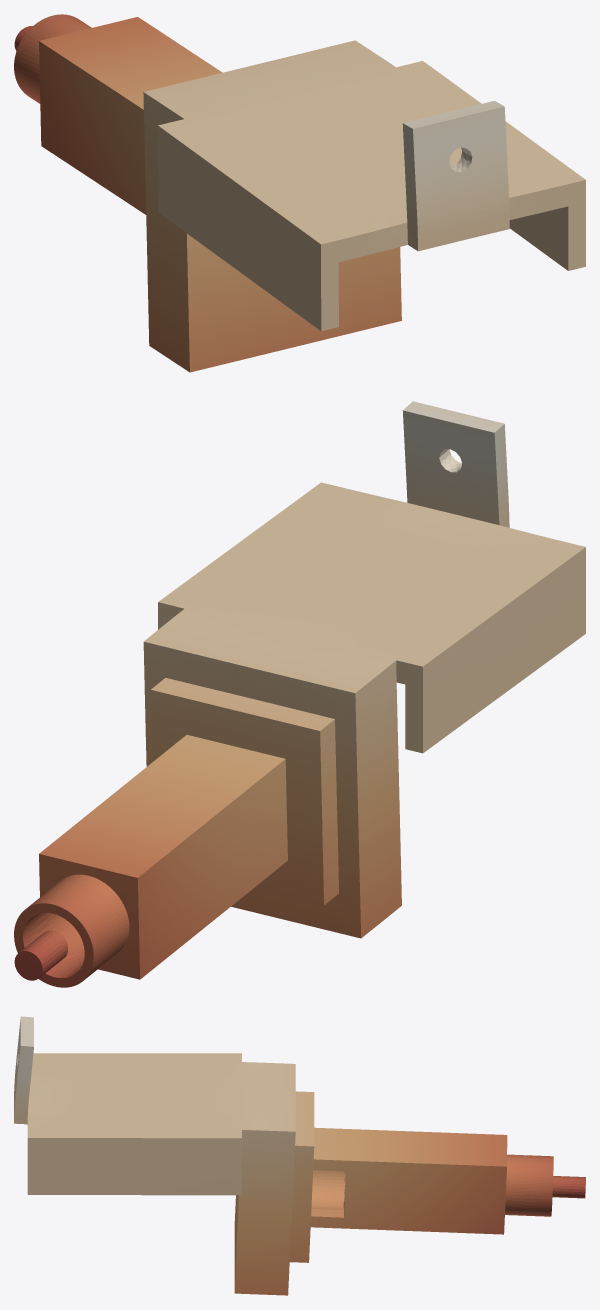
Rendered from z_strip_Fz_u.glb.
The picture shows the model from 3 angles, top to bottom: view 1: azimuth 30°, elevation 25°; view 2: azimuth 150°, elevation 25°; view 3: azimuth 270°, elevation 25°; orthographic projection. The views are drawn at different scales.
Parts seen in each view (by area): view 1: geometry_0; view 2: geometry_0; view 3: geometry_0.
Boxes of the visible parts, x1,y1,x2,y2 form: geometry_0: [14, 14, 585, 372]; geometry_0: [14, 401, 585, 987]; geometry_0: [14, 1016, 585, 1295].
Size of the model in its own units: 150 by 190 by 427.
